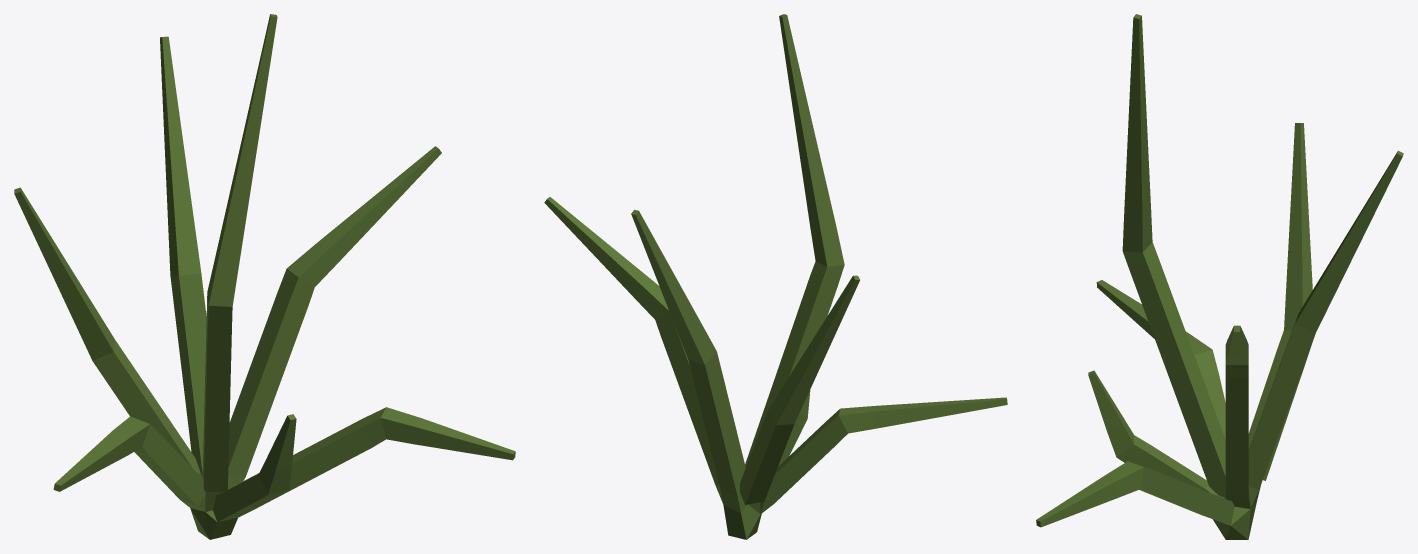
File: Grass.fbx
The picture shows the model from 3 angles, left to right: view 1: azimuth 30°, elevation 25°; view 2: azimuth 150°, elevation 25°; view 3: azimuth 270°, elevation 25°; orthographic projection. The views are drawn at different scales.
Visible parts, largest first — view 1: Grass; view 2: Grass; view 3: Grass.
Part boxes in pixels (<box>): Grass: <box>14,14,515,539</box>; Grass: <box>544,14,1007,539</box>; Grass: <box>1036,14,1403,539</box>.
Size of the model in its own units: 0.6387 by 0.7393 by 0.4718.
